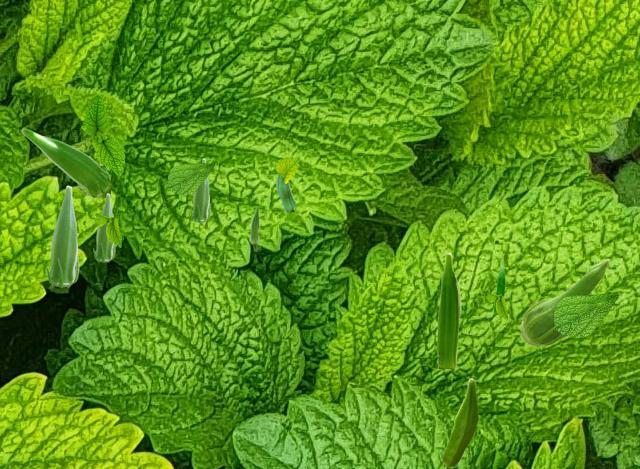okra: (520, 258, 609, 345), (21, 128, 109, 196), (46, 185, 78, 286), (442, 378, 477, 465), (437, 252, 460, 367), (93, 193, 114, 261), (190, 158, 209, 221), (276, 156, 294, 210), (493, 259, 504, 313), (249, 206, 258, 250)
